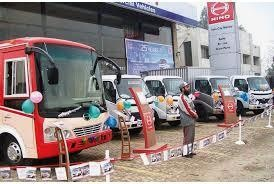bus: (1, 38, 122, 164)
